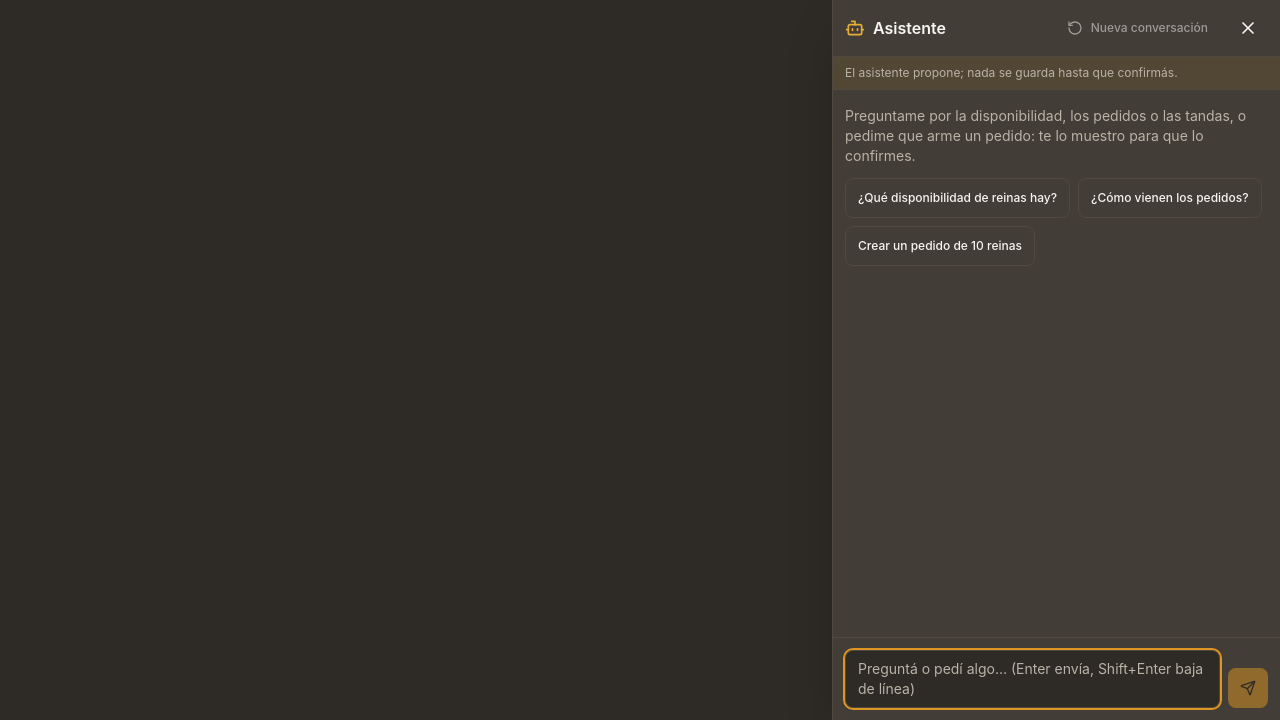
Test: mensaje resultado y botón Seguir › tras descartar, el resultado lo dice
The width and height of the screenshot is (1280, 720).
In the text box named "Mensaje para el asistente": (1032, 679) [845,650,1220,708], type "crear pedido"
Then press Enter
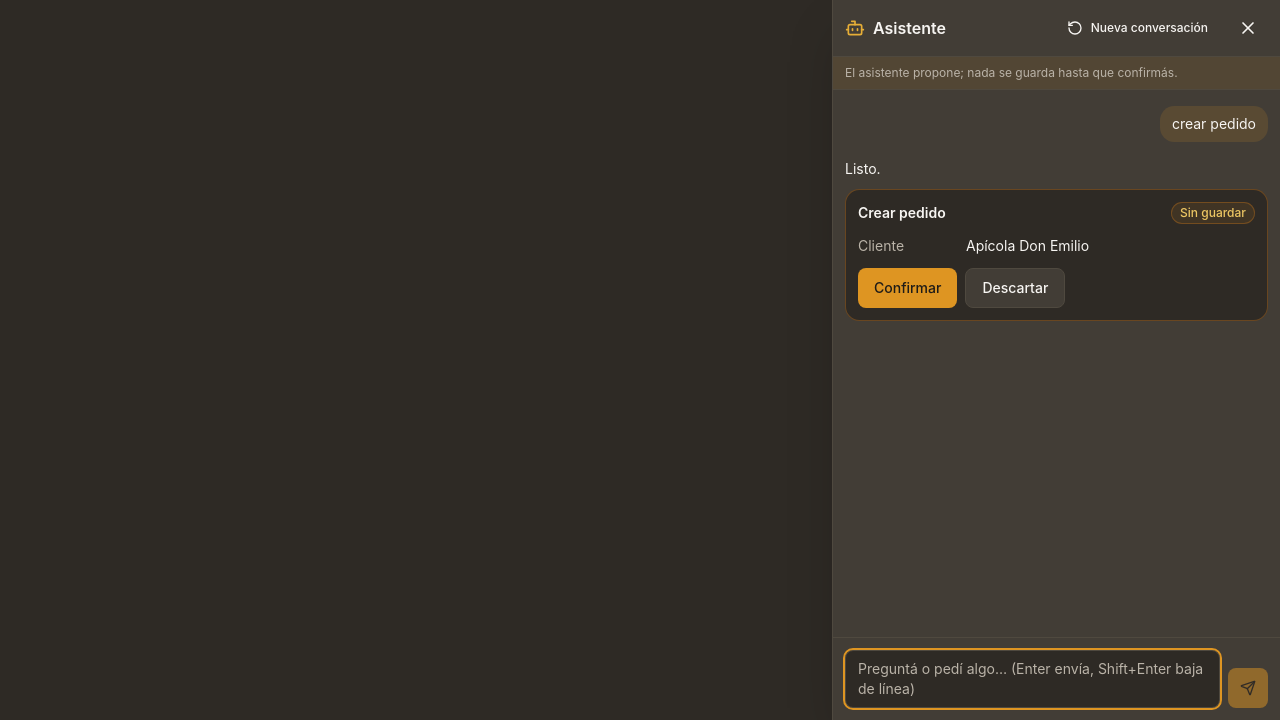
Click the button "Descartar": (1015, 288) [965,268,1065,308]
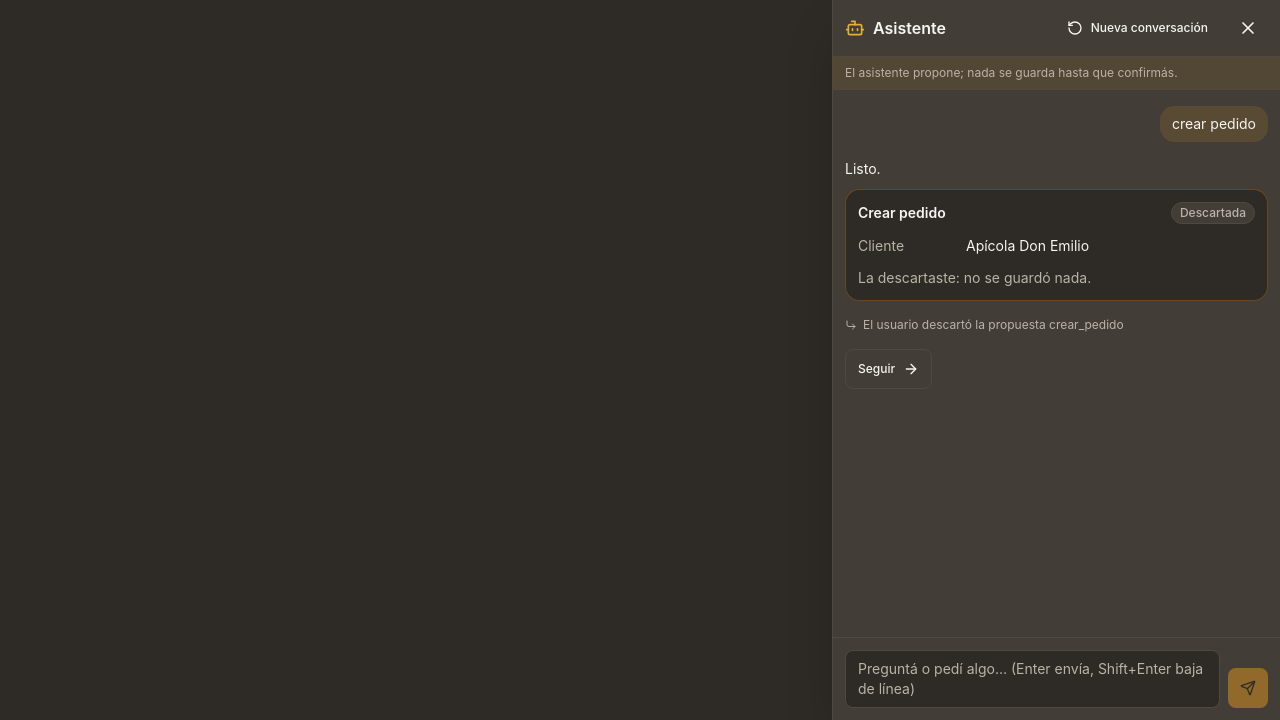
expect the text "El usuario descartó la propuesta crear_pedido" is shown: met, box [863,317,1124,333]
expect the button "Seguir" is shown: met, box [845,349,932,389]
